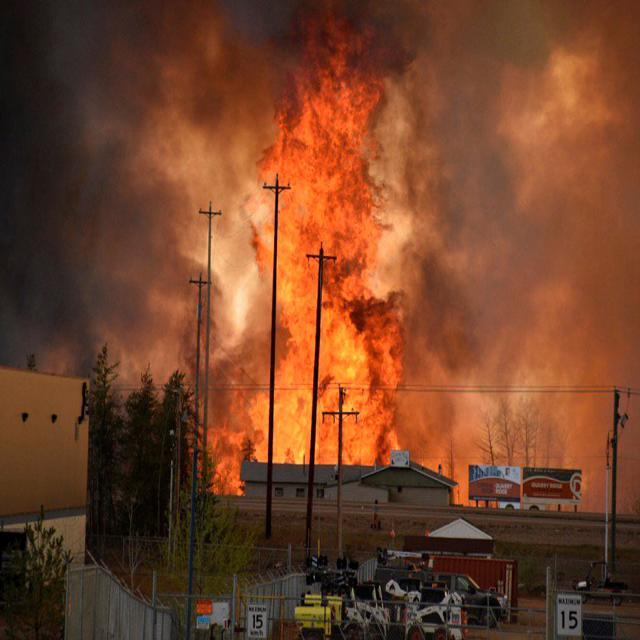Fire: (206, 34, 396, 510)
Smoke: (403, 2, 637, 490), (0, 0, 263, 408)
